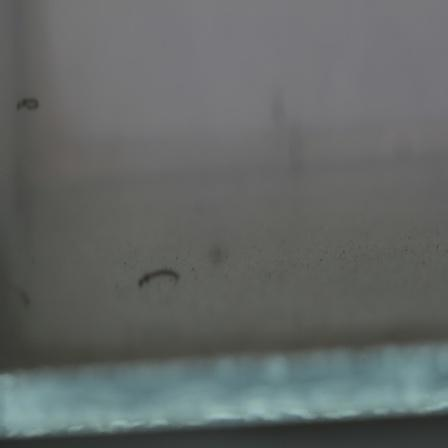Jentik-Nyamuk: (132, 258, 185, 294)
